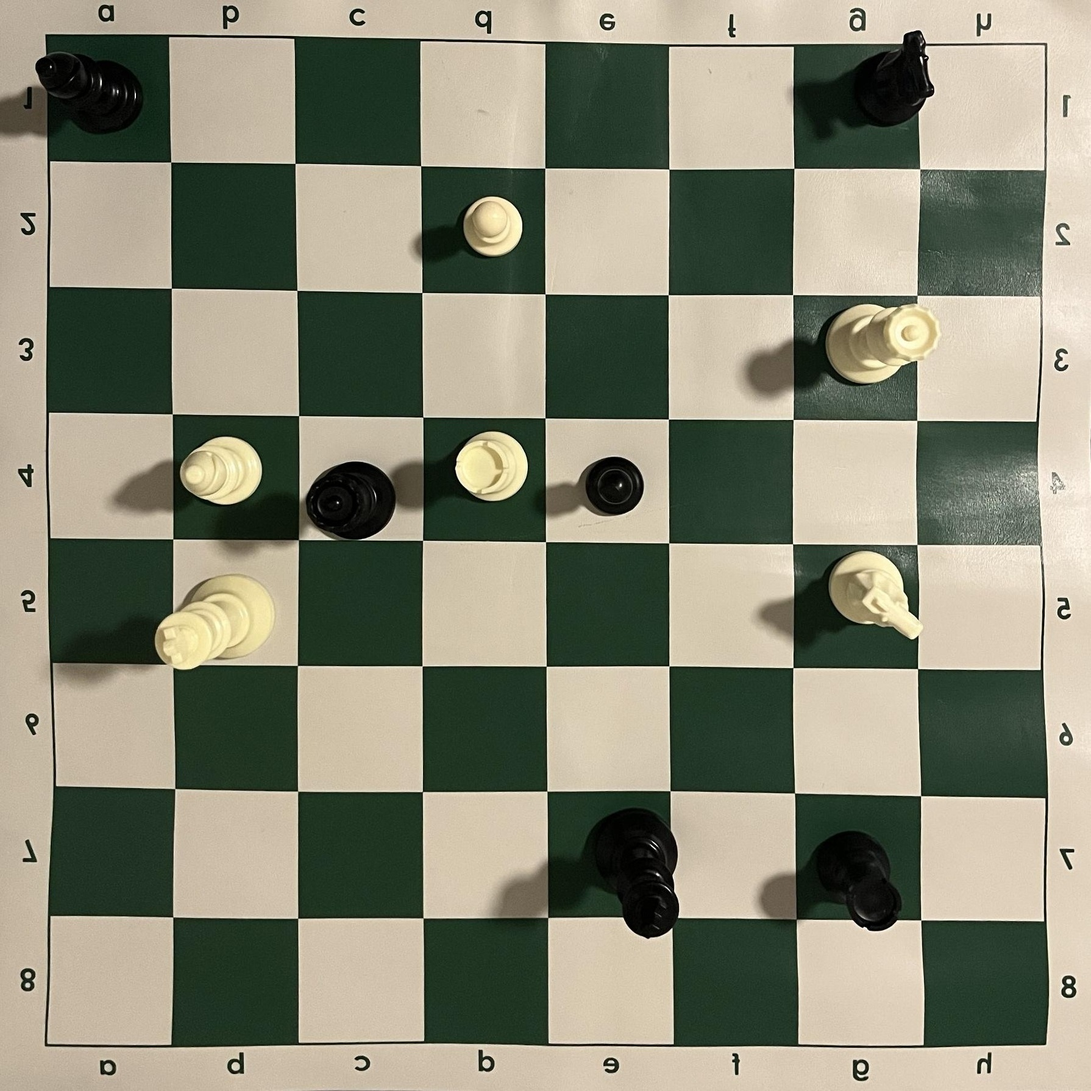black_bishop: (35, 51, 143, 133)
black_king: (585, 807, 680, 940)
black_knight: (852, 30, 935, 128)
black_pawn: (585, 457, 644, 517)
black_queen: (305, 461, 396, 541)
black_rook: (814, 831, 904, 932)
white_bishop: (179, 436, 262, 506)
white_king: (155, 572, 276, 670)
white_knight: (828, 551, 925, 639)
white_pawn: (463, 196, 523, 258)
white_queen: (825, 302, 940, 384)
white_rook: (455, 430, 528, 502)
